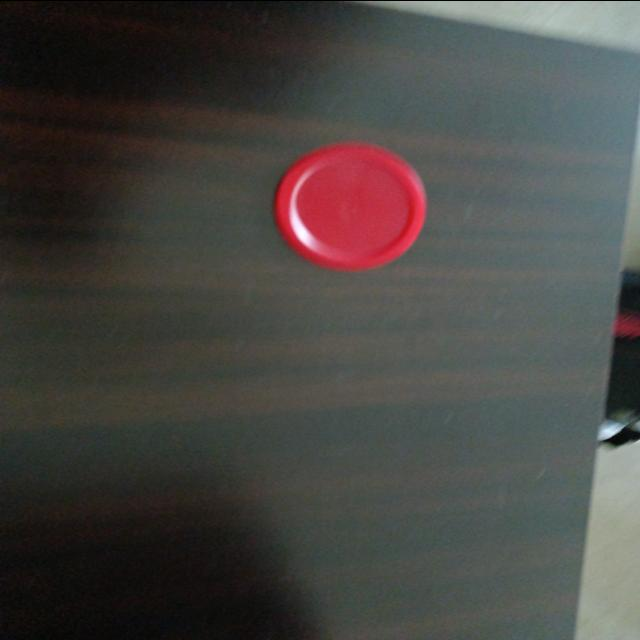chip: (268, 138, 432, 274)
